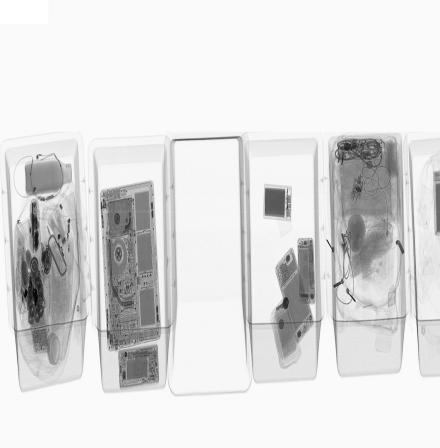Powerbank: (263, 180, 293, 224)
